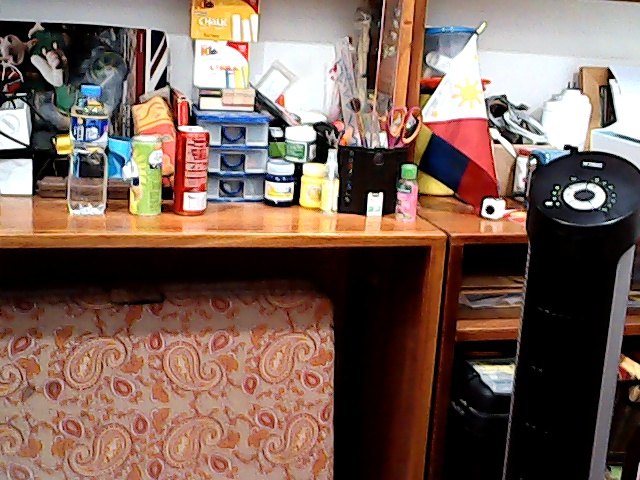Cola: (168, 121, 220, 213)
Pine Juice: (120, 129, 171, 215)
Summit Water: (63, 78, 111, 211)
